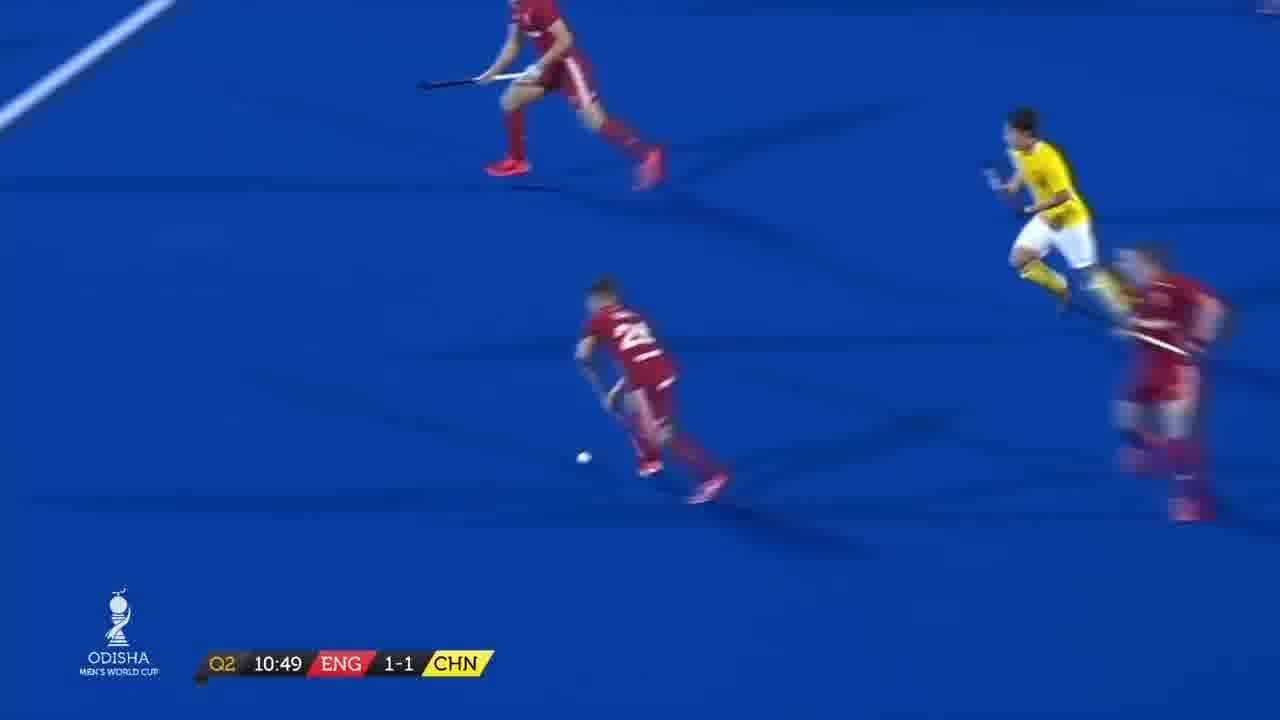ball: (574, 442, 598, 474)
